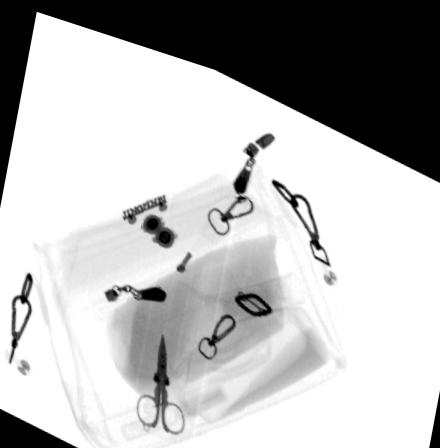Scissors: (133, 322, 184, 424)
